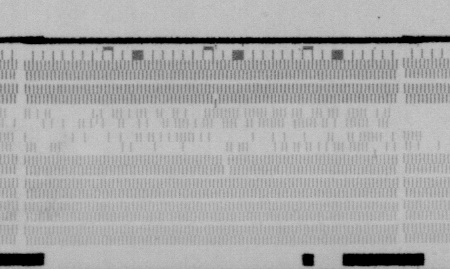Broken hole: (1, 104, 450, 154), (219, 154, 232, 176)
Oblique printing: (210, 94, 222, 110)
